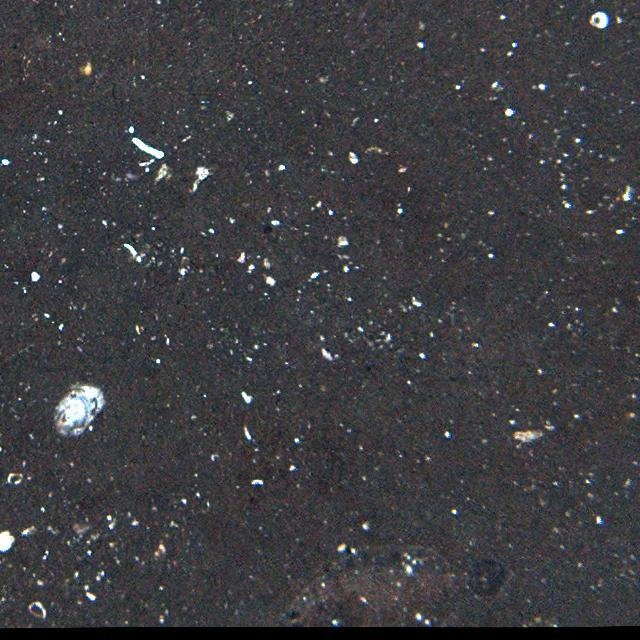flatfish: (276, 544, 510, 626)
